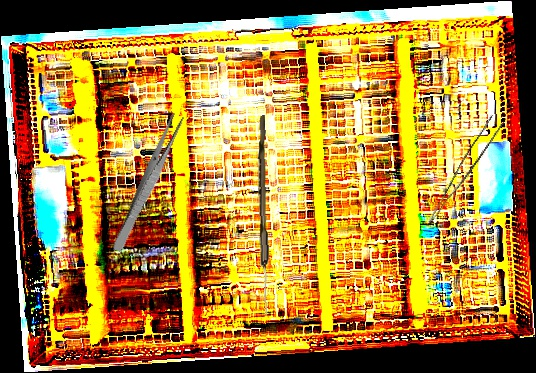Dressing Forceps: (110, 111, 187, 255)
Surgical Spoon: (254, 115, 273, 317)
Tissue Forceps: (427, 112, 505, 232)
